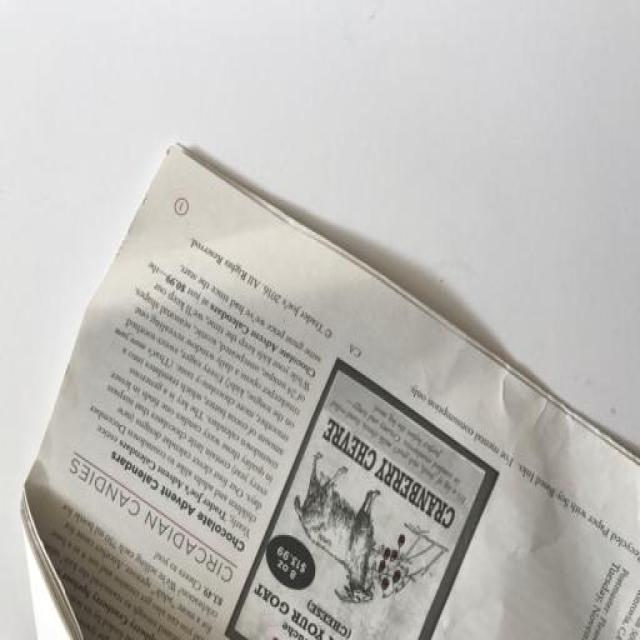Paper: (14, 153, 640, 640)
